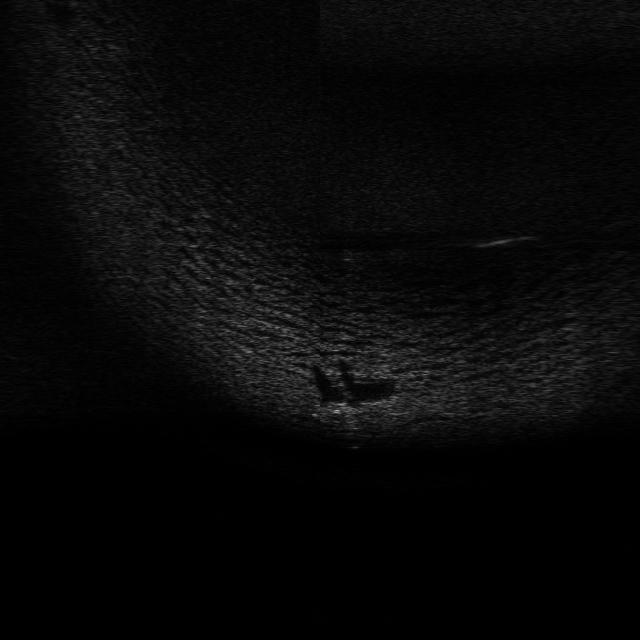plane: (316, 398, 388, 423)
